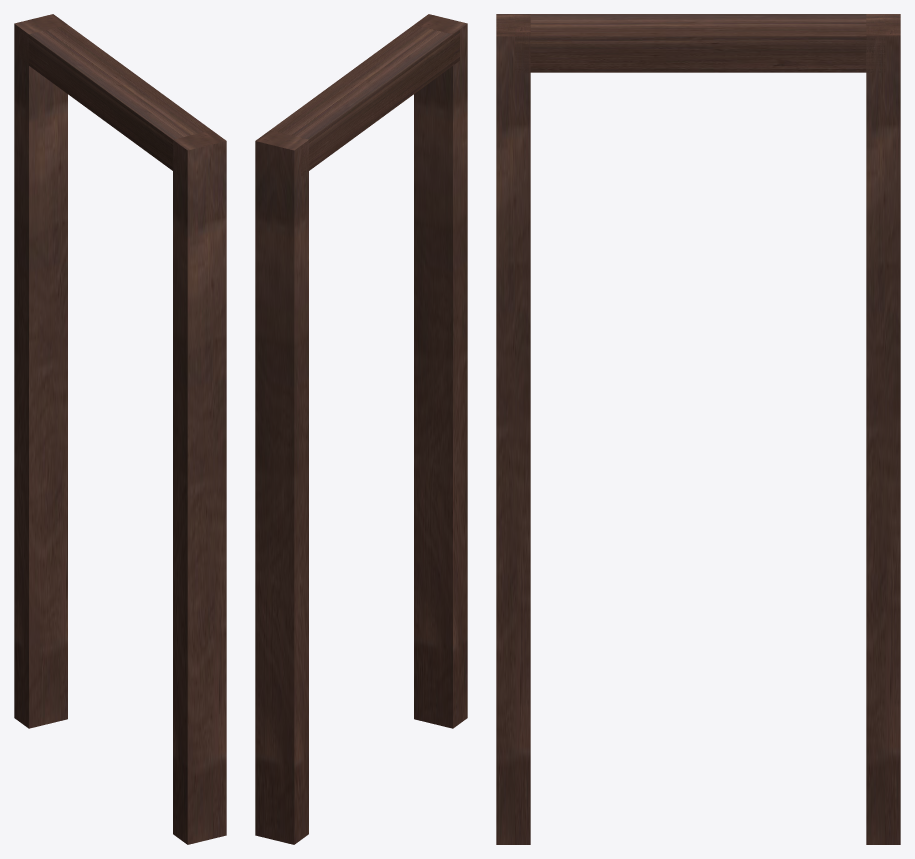
File: doorframe.fbx
The picture shows the model from 3 angles, left to right: view 1: azimuth 30°, elevation 25°; view 2: azimuth 150°, elevation 25°; view 3: azimuth 270°, elevation 25°; orthographic projection. The views are drawn at different scales.
Parts seen in each view (by area): view 1: doorframe; view 2: doorframe; view 3: doorframe.
Part boxes in pixels (bbox=[...]): doorframe: bbox=[14, 14, 226, 844]; doorframe: bbox=[255, 14, 467, 844]; doorframe: bbox=[496, 14, 900, 844].
Bounding box in the file's own units: 45.24 × 768 × 348.
